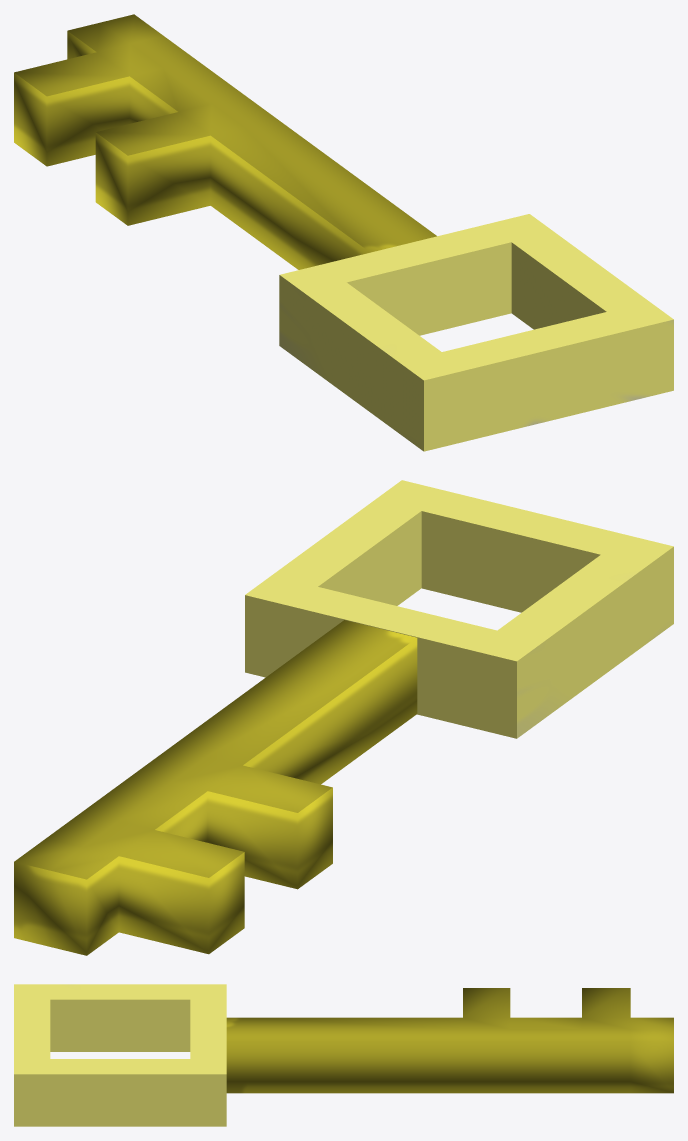
Rendered from chiakhoa.glb.
3 renders of one model, top to bottom at view 1: azimuth 30°, elevation 25°; view 2: azimuth 150°, elevation 25°; view 3: azimuth 270°, elevation 25°, orthographic. The views are drawn at different scales.
Parts seen in each view (by area): view 1: Cube.001, Cube; view 2: Cube, Cube.001; view 3: Cube, Cube.001.
Part boxes in pixels (x1=…): Cube.001: x1=279, y1=214, x2=673, y2=451; Cube: x1=14, y1=14, x2=436, y2=269; Cube: x1=14, y1=620, x2=417, y2=955; Cube.001: x1=245, y1=480, x2=673, y2=738; Cube: x1=226, y1=988, x2=673, y2=1093; Cube.001: x1=14, y1=984, x2=226, y2=1126.
Bounding box in the file's own units: 0.8895 × 0.2418 × 2.76.
Materials: 2 (2 with a texture image).
